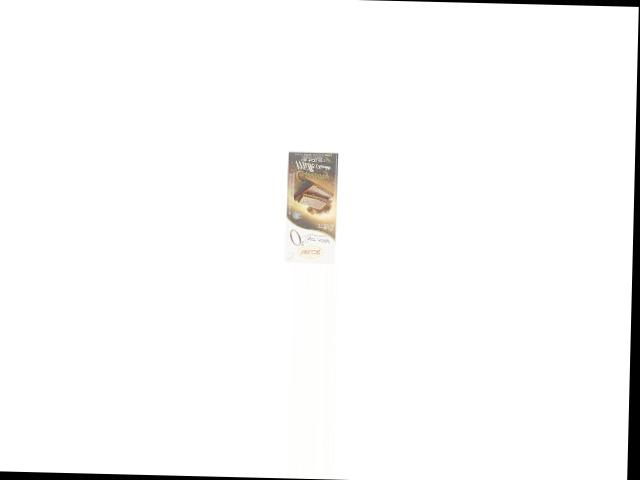chocolate: (281, 150, 340, 264)
